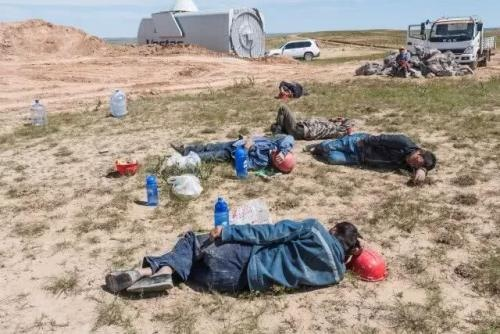falling: (262, 99, 356, 141)
